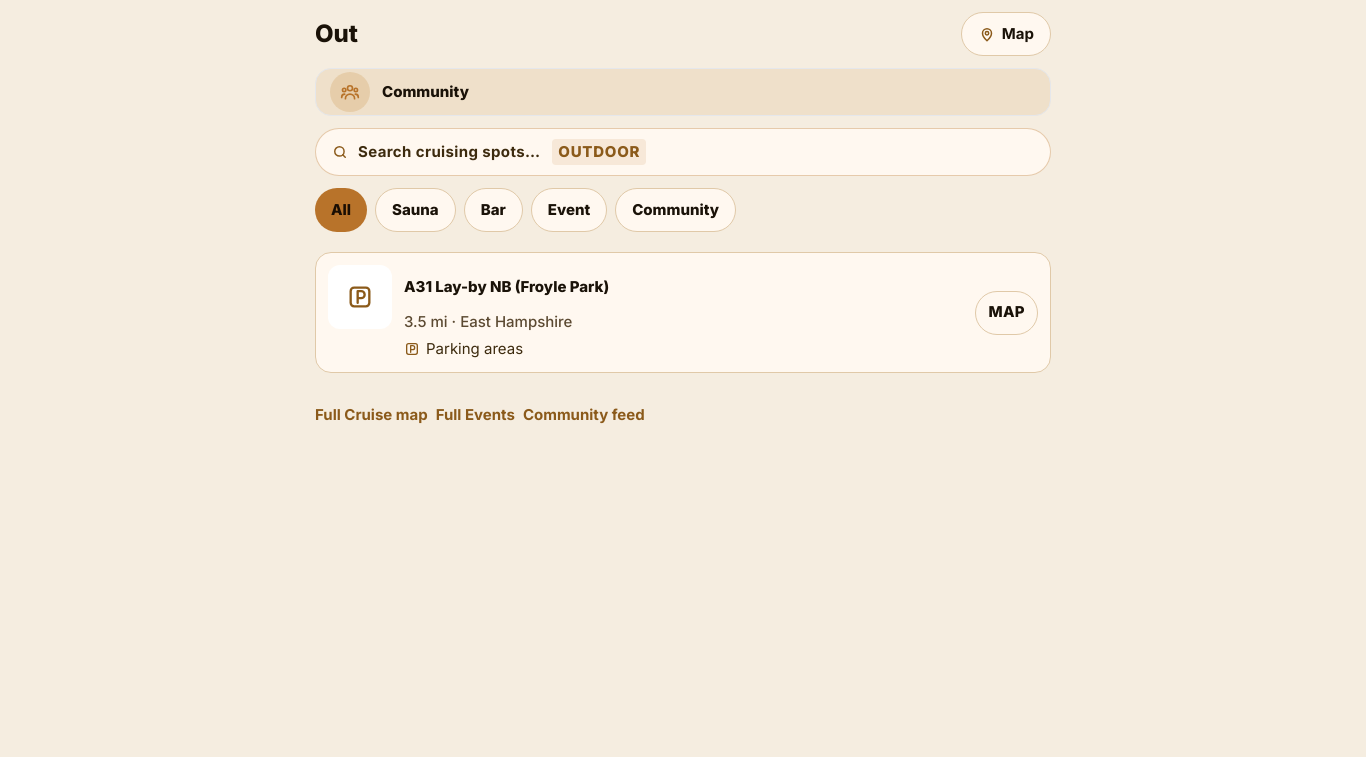
Test: Out spot card opens the spot sheet › with no server spot the count is left alone (#368: Ghost viewers are never counted)
Click the button "A31 Lay-by NB (Froyle Park)": (507, 286) [404, 265, 963, 309]
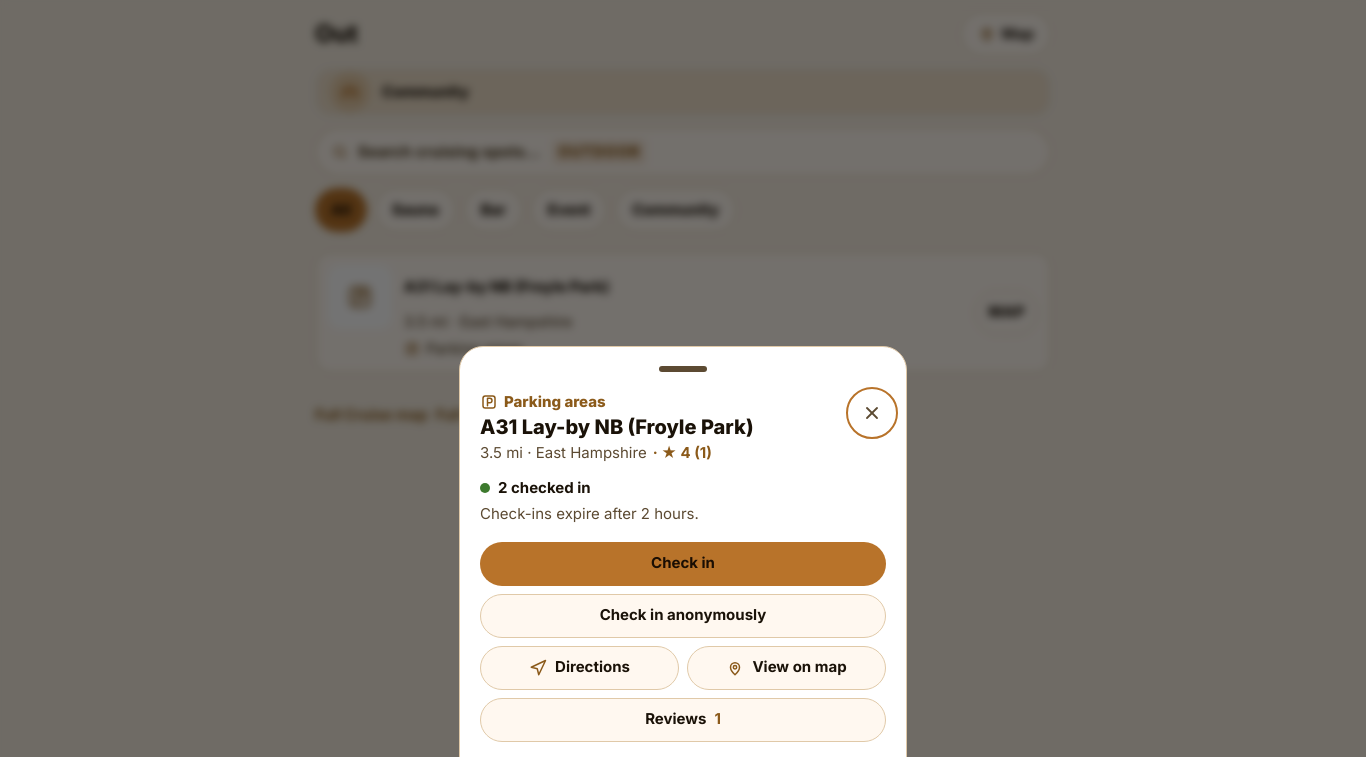
Click the button with test id "hotspot-sheet-checkin-anon": (683, 616) [480, 594, 886, 638]
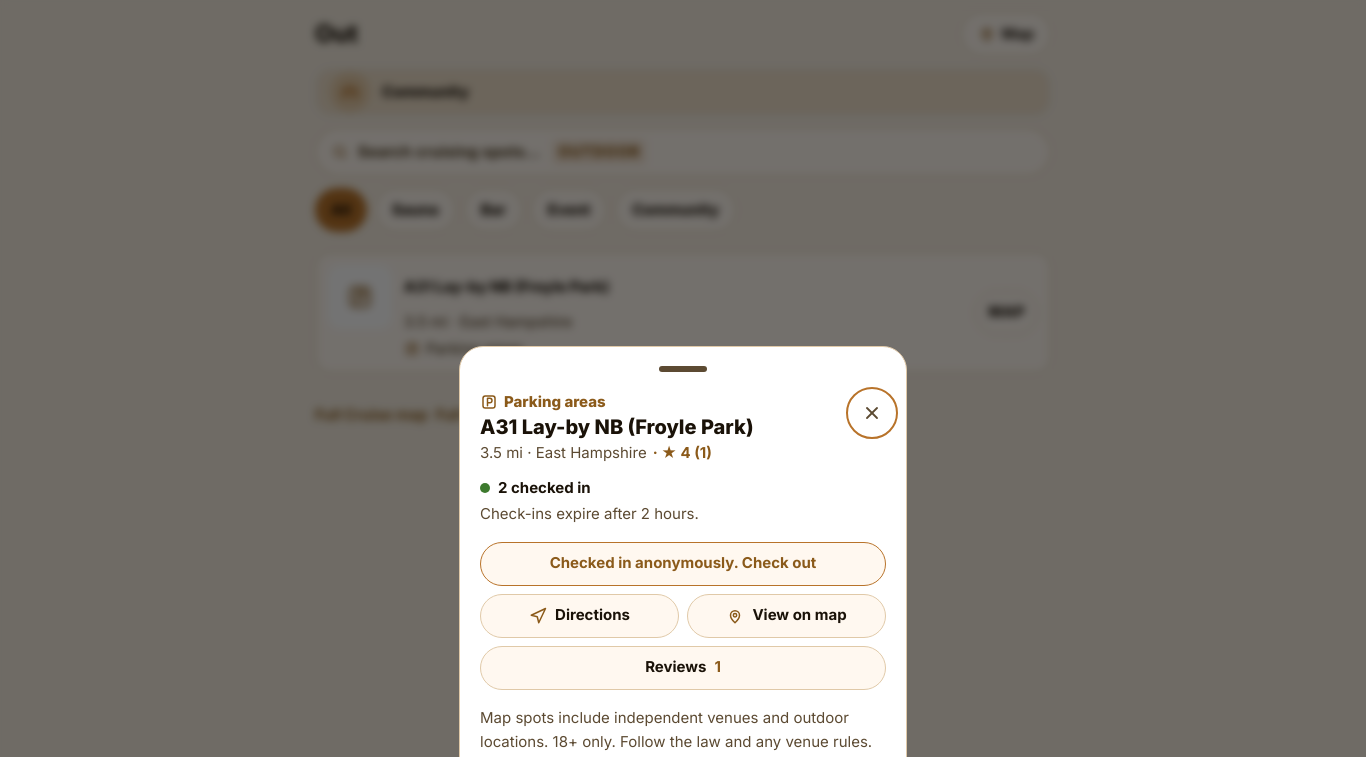
Result: the element with test id "hotspot-sheet-activity" reads "2 checked in" at [498, 478, 591, 497]
Result: the button with test id "hotspot-sheet-checkout" is shown at [480, 542, 886, 586]
